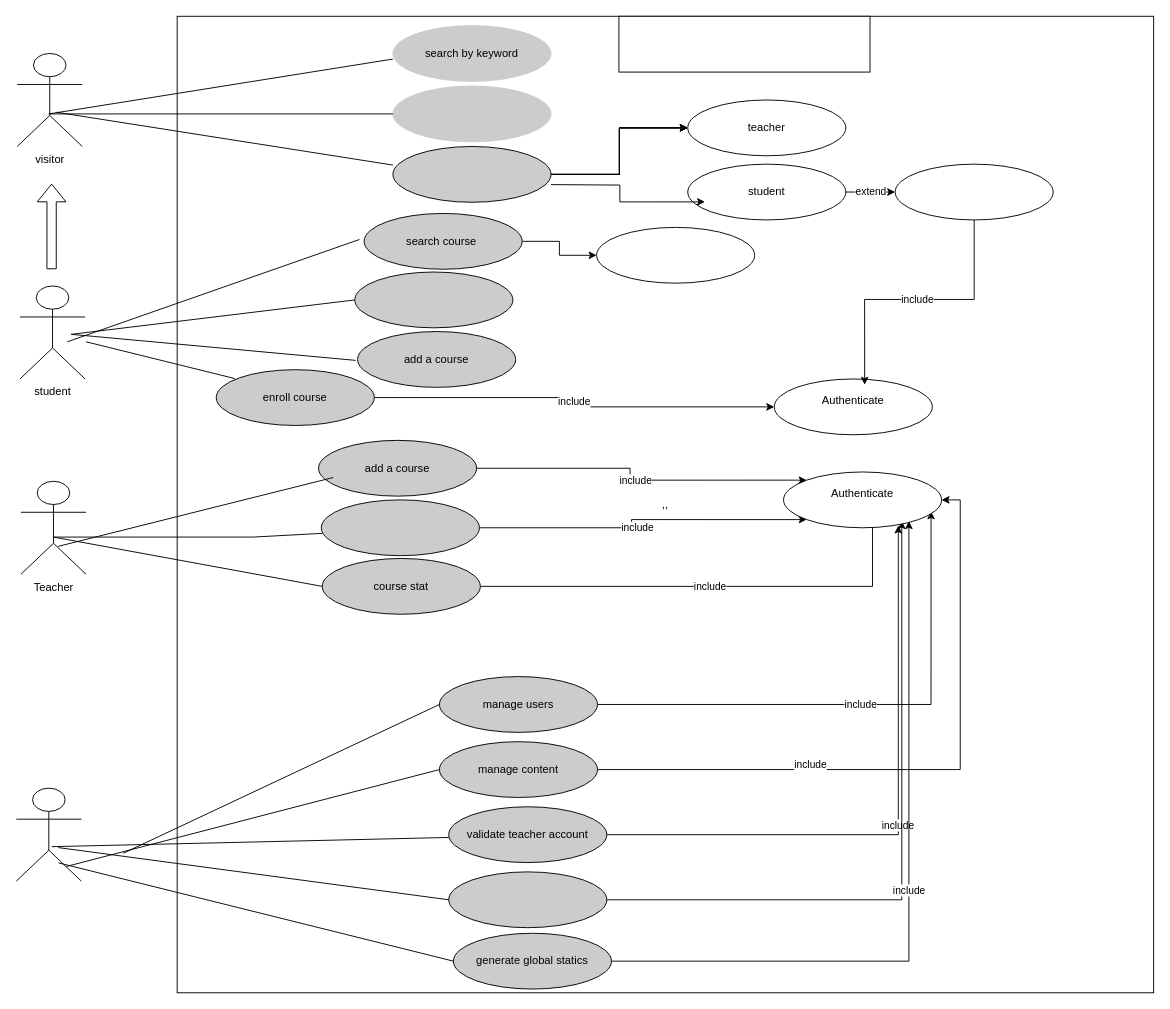
Image size: 1170x1009. Some labels were removed from this diagram. Here are the shapes that lost their labels. From the top down, the centre of each, then its label:
the point at 744,43: YoUdemy
the point at 471,113: view catalog
the point at 471,174: create account
the point at 973,191: join a course
the point at 675,254: view course details
the point at 433,299: View Joined Courses
the point at 399,527: edit/ remove course
the point at 48,834: Admin
the point at 527,899: activate, suspend, delete users
